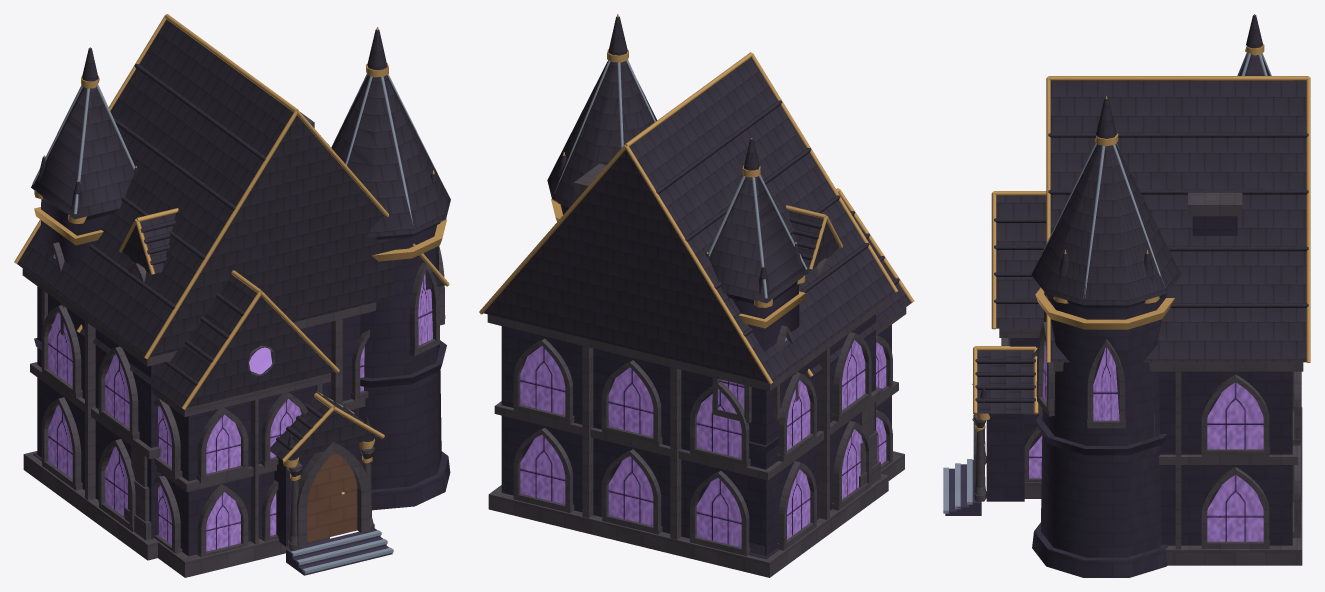
File: obsidian-manor-far.glb
3 views of the same model, side by side, from view 1: azimuth 30°, elevation 25°; view 2: azimuth 150°, elevation 25°; view 3: azimuth 270°, elevation 25° (orthographic). The views are drawn at different scales.
Size of the model in its own units: 6.65 by 8.86 by 6.53.
10 materials, 10 textured.
